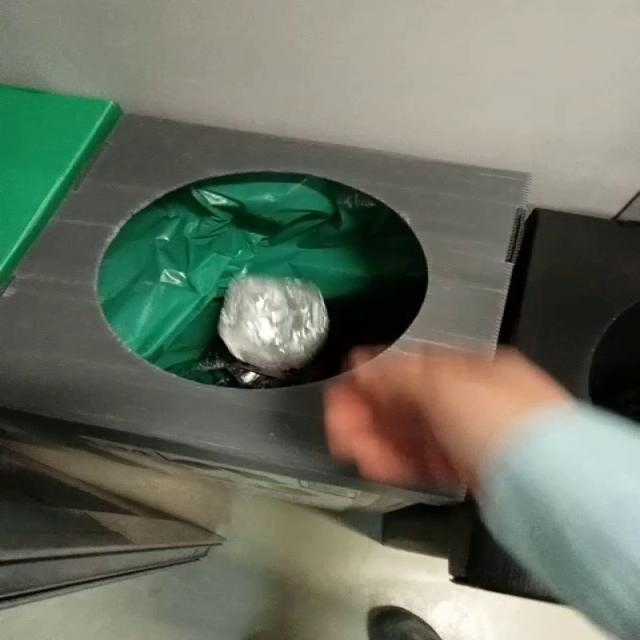bin: (1, 114, 529, 512)
metal: (219, 276, 329, 378)
